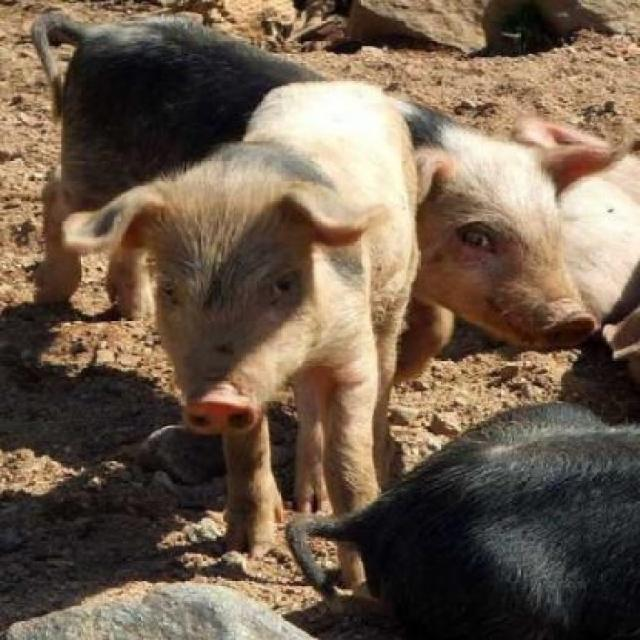pig: (46, 0, 612, 368), (112, 52, 457, 502)
